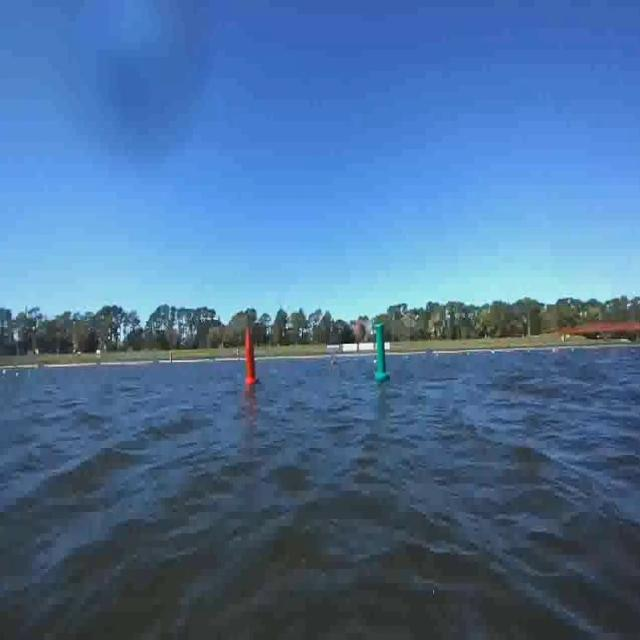green-column-buoy: (374, 322, 391, 380)
red-column-buoy: (242, 326, 257, 384)
